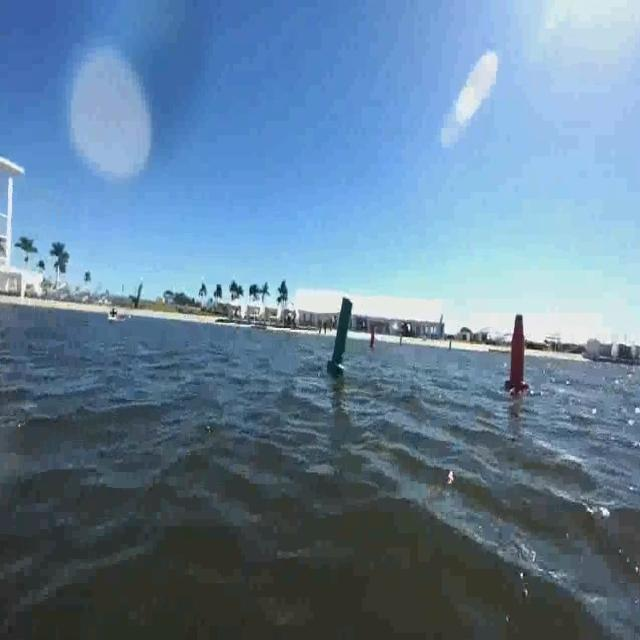green-column-buoy: (330, 297, 357, 376)
red-column-buoy: (506, 315, 530, 392), (368, 325, 376, 351)
